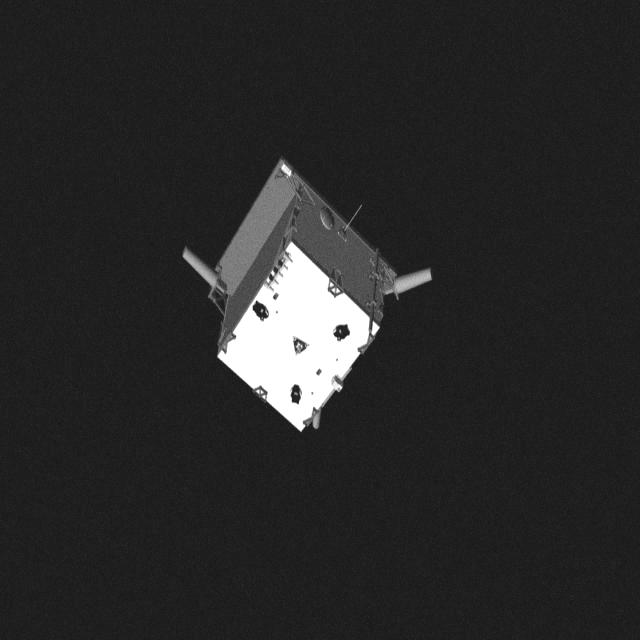medium_debris: (176, 160, 438, 438)
